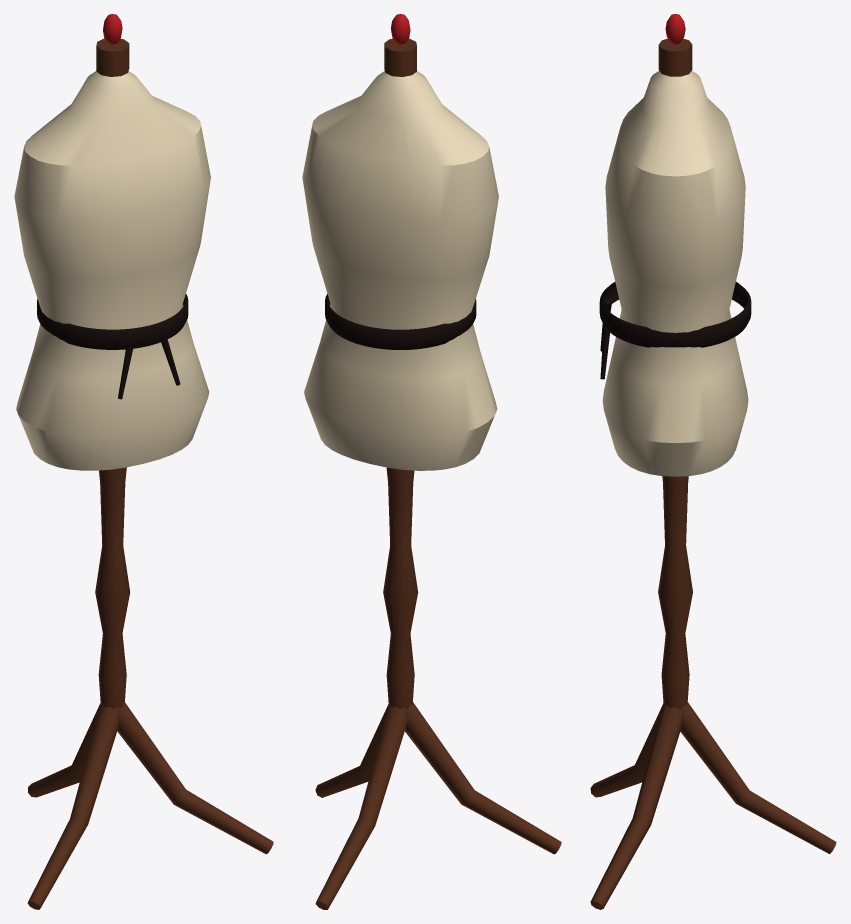
The model's file is PR_DressForm.fbx.
3 renders of one model, left to right at view 1: azimuth 30°, elevation 25°; view 2: azimuth 150°, elevation 25°; view 3: azimuth 270°, elevation 25°, orthographic.
Parts seen in each view (by area): view 1: PR_DressForm_Linen, PR_DressForm_WoodDark, PR_DressForm_Line; view 2: PR_DressForm_Linen, PR_DressForm_WoodDark, PR_DressForm_Line; view 3: PR_DressForm_Linen, PR_DressForm_WoodDark, PR_DressForm_Line.
Part boxes in pixels (x1=…): PR_DressForm_Linen: x1=14, y1=71, x2=210, y2=470; PR_DressForm_WoodDark: x1=27, y1=38, x2=273, y2=909; PR_DressForm_Line: x1=37, y1=294, x2=188, y2=399; PR_DressForm_Linen: x1=302, y1=71, x2=498, y2=470; PR_DressForm_WoodDark: x1=315, y1=38, x2=561, y2=909; PR_DressForm_Line: x1=325, y1=294, x2=476, y2=349; PR_DressForm_Linen: x1=602, y1=71, x2=748, y2=476; PR_DressForm_WoodDark: x1=590, y1=38, x2=836, y2=909; PR_DressForm_Line: x1=599, y1=282, x2=751, y2=379.
Size of the model in its own units: 0.502 by 1.65 by 0.4387.
